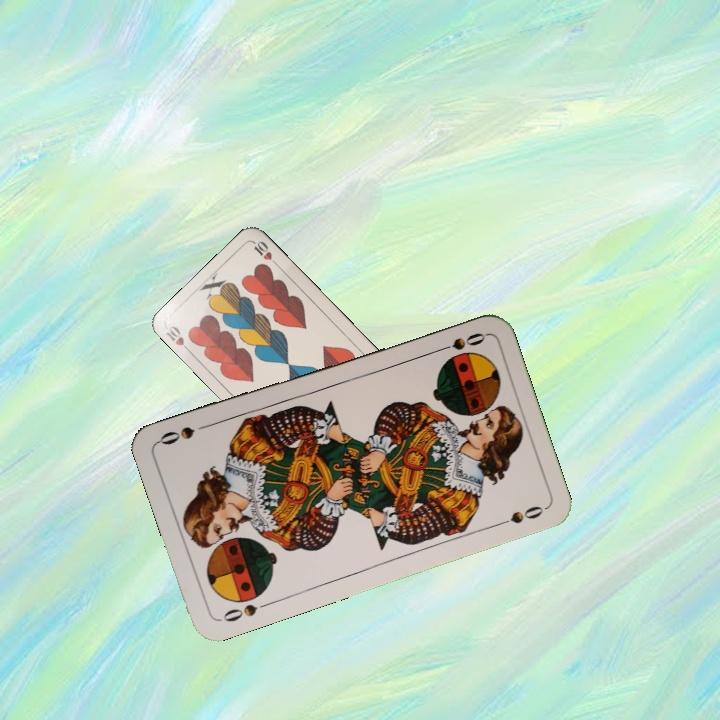H10: (162, 322, 194, 356)
SO: (430, 328, 488, 356), (219, 598, 273, 625)
